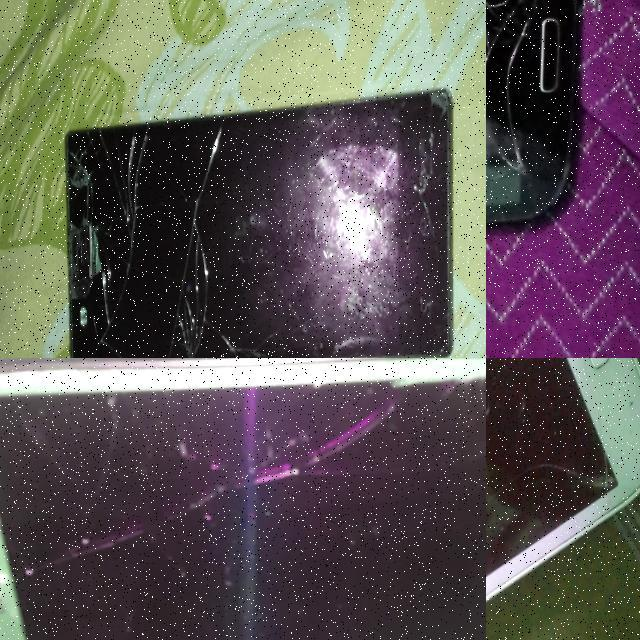screen crack: (0, 358, 486, 640), (56, 105, 235, 358), (486, 0, 580, 246), (520, 403, 640, 531), (403, 91, 445, 306), (308, 311, 390, 358)
